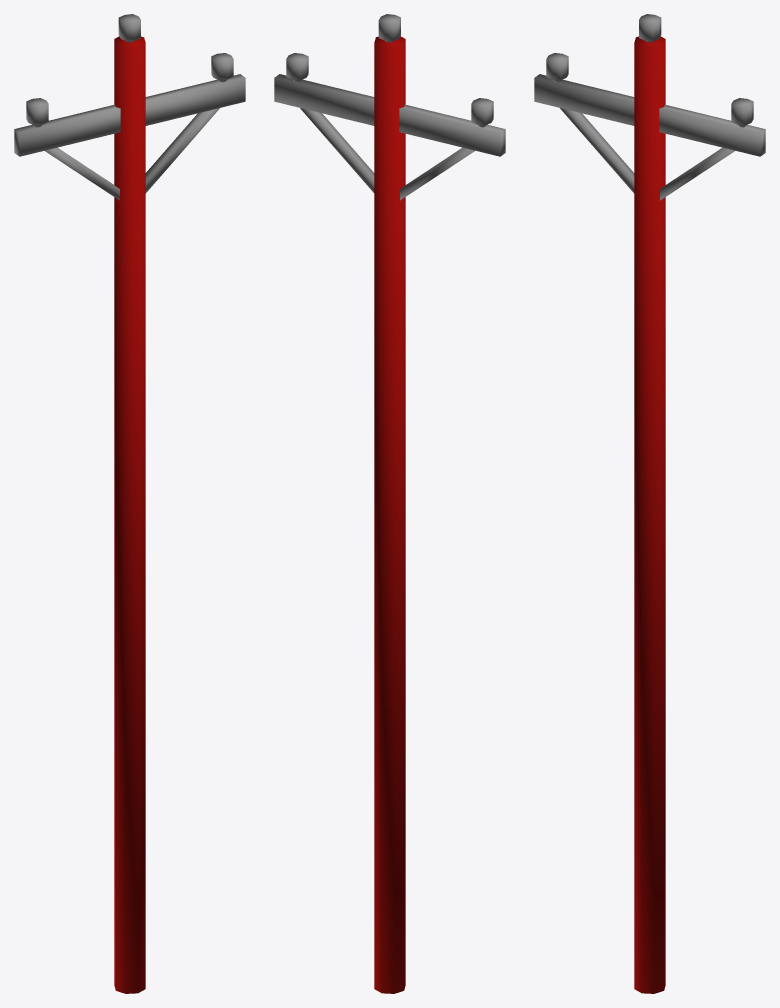
The model's file is redpylon.dae.
3 renders of one model, left to right at view 1: azimuth 30°, elevation 25°; view 2: azimuth 150°, elevation 25°; view 3: azimuth 330°, elevation 25°, orthographic.
Visible parts, largest first — view 1: Pylon; view 2: Pylon; view 3: Pylon.
Part boxes in pixels (box(x1,y1,x2,y2)): Pylon: box(14, 14, 245, 993); Pylon: box(274, 14, 505, 993); Pylon: box(534, 14, 765, 993).
Size of the model in its own units: 2 by 0.25 by 8.19.
